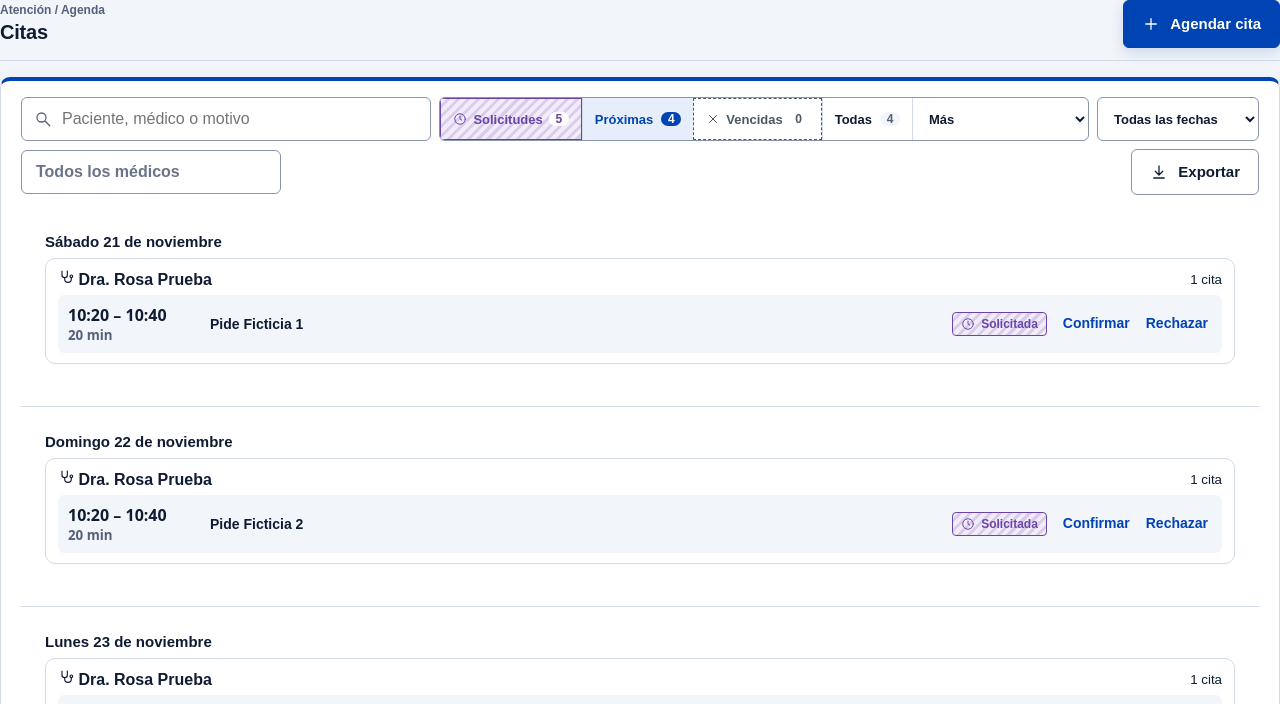
#9 and #15 · the request tray › the «Solicitudes» segment lists every request in two groups, each group named once
Click the button "Solicitudes 5": click(511, 119) [440,98,582,140]
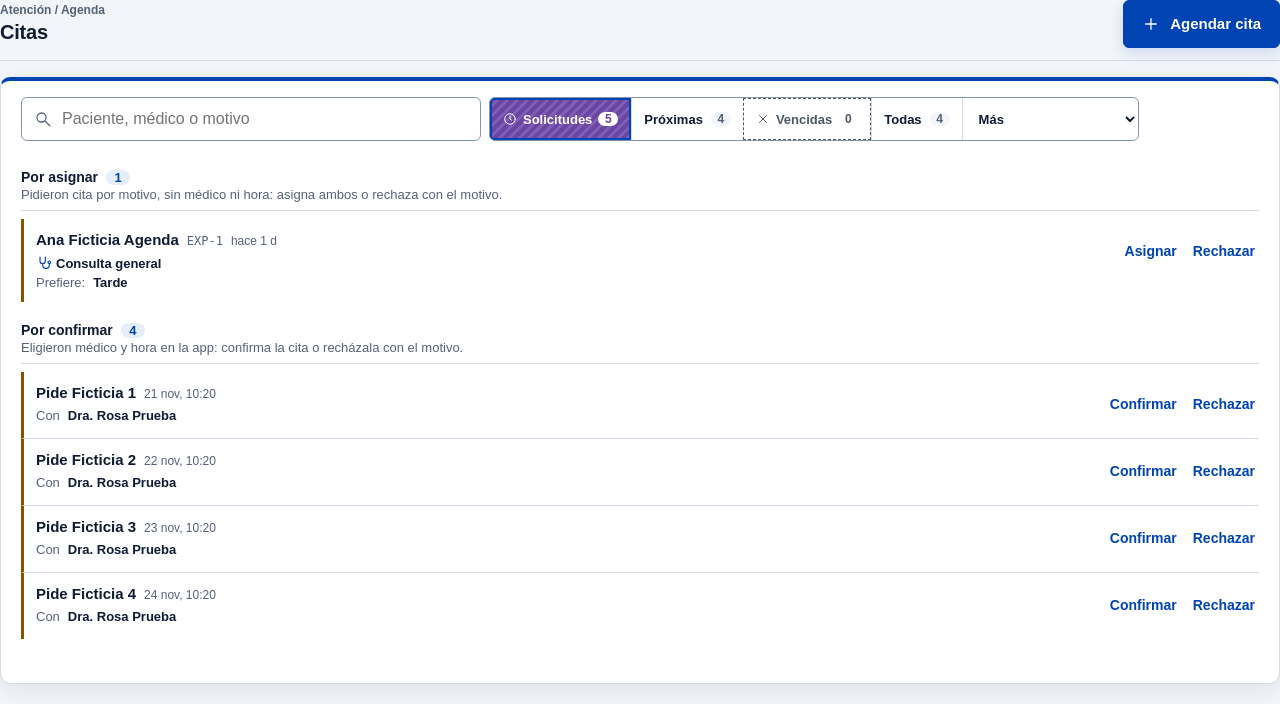
expect the text "Ana Ficticia Agenda" is shown: met, box [36,231,179,248]
expect the number of list items with class "rq-row" is 5: met, box [21,219,1259,302]; [21,372,1259,439]; [21,439,1259,506]; [21,506,1259,573]; [21,573,1259,639]
expect the number of headings "Por asignar 1" is 1: met, box [21,169,130,185]
